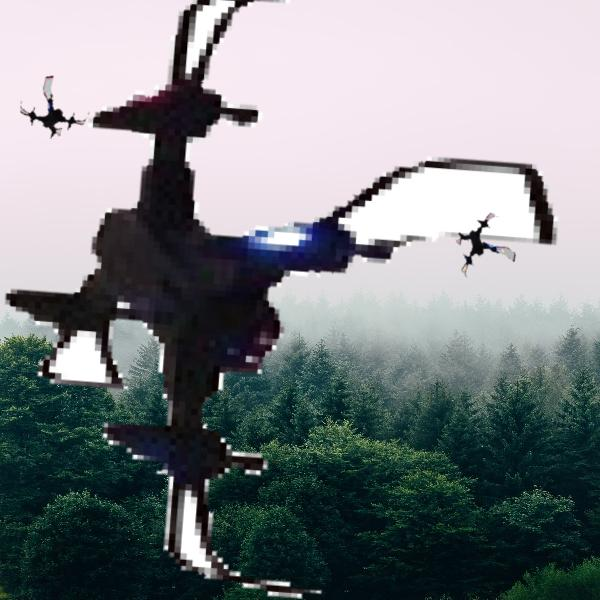drone: (21, 72, 94, 145), (451, 216, 523, 288)
